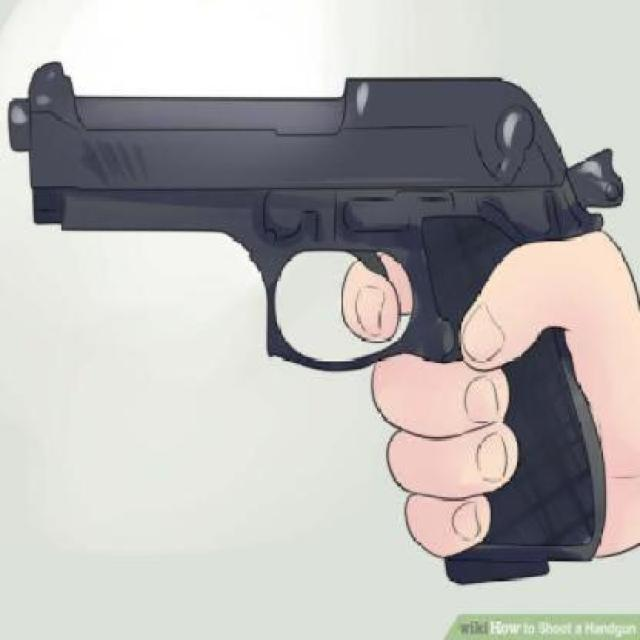gun: (0, 49, 622, 586)
